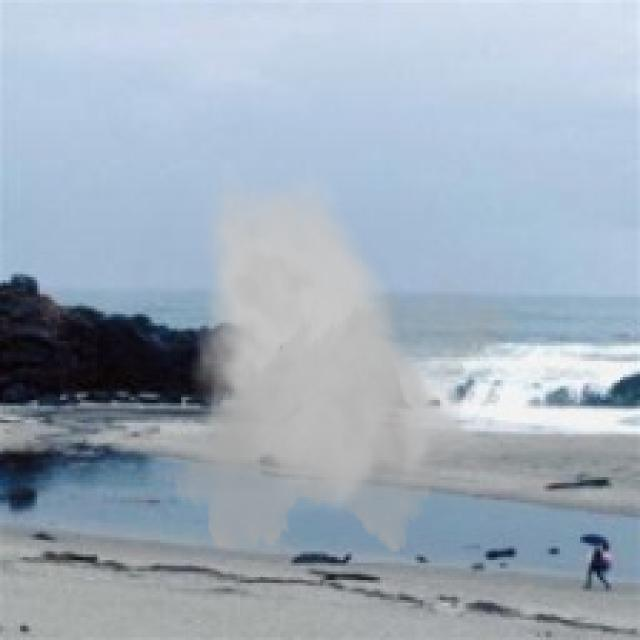smoke: (163, 160, 517, 563)
